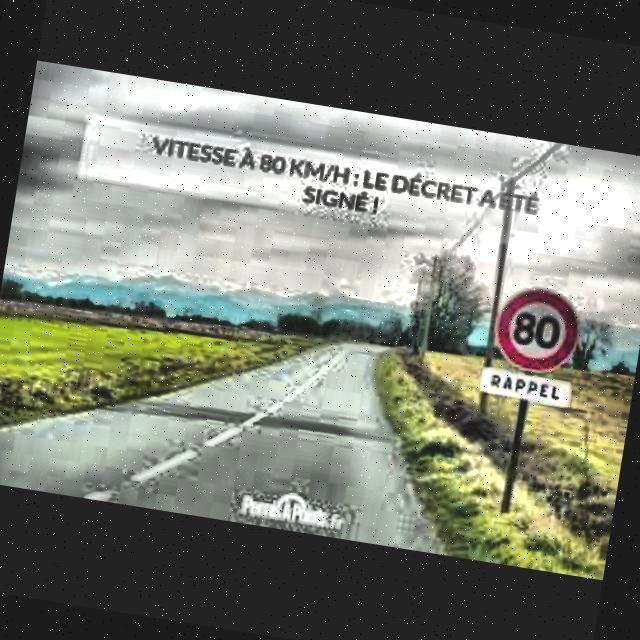speed_80: (488, 279, 586, 376)
